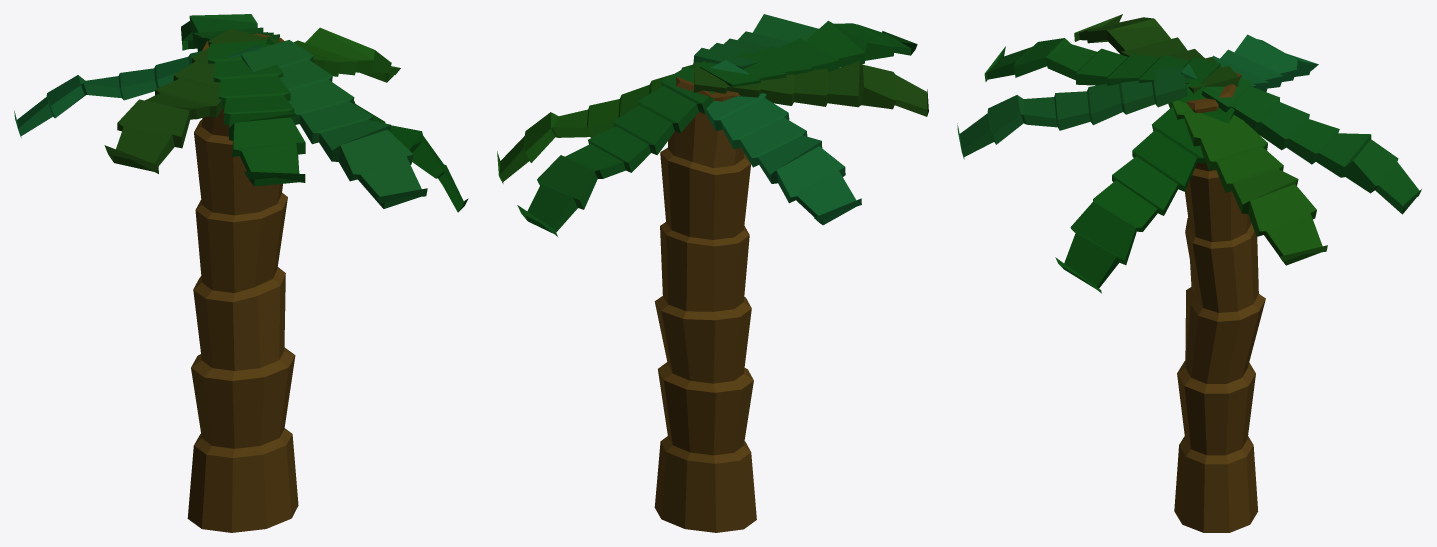
Rendered from vKvPalm.fbx.
3 renders of one model, left to right at view 1: azimuth 30°, elevation 25°; view 2: azimuth 150°, elevation 25°; view 3: azimuth 270°, elevation 25°, orthographic. The views are drawn at different scales.
Visible parts, largest first — view 1: Cube; view 2: Cube; view 3: Cube.
Part boxes in pixels (box(x1,y1,x2,y2)): Cube: box(14, 14, 468, 532); Cube: box(497, 14, 928, 532); Cube: box(957, 14, 1421, 532).
Bounding box in the file's own units: 400 × 471 × 452.
